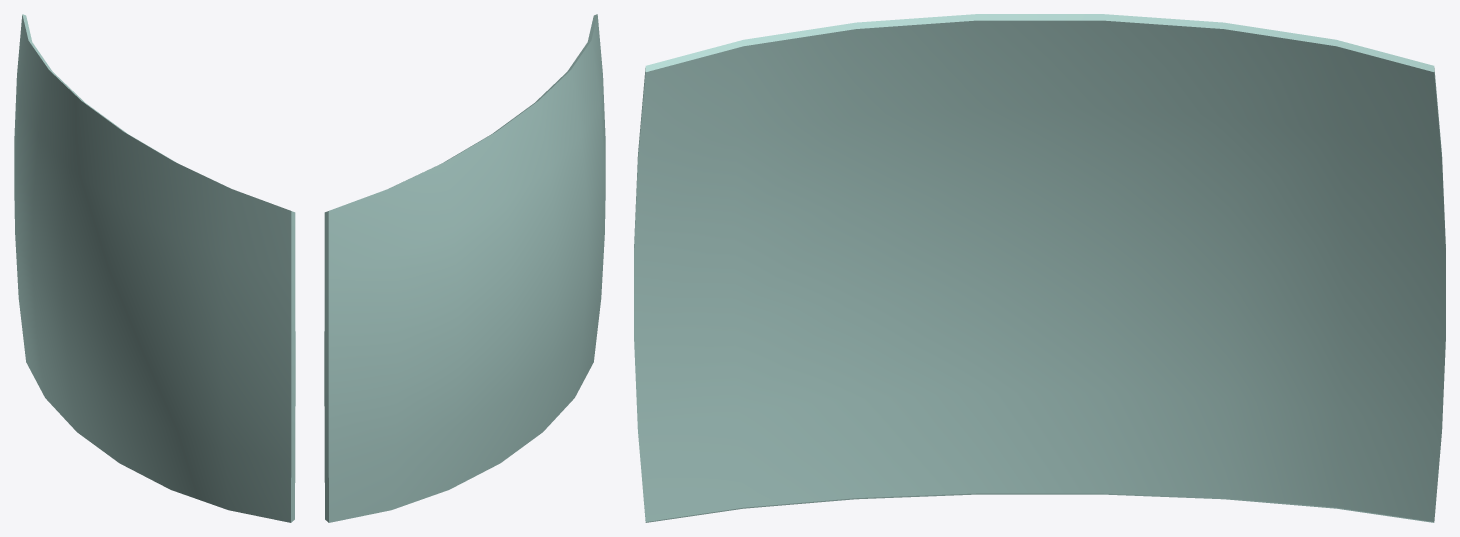
File: Label.FBX
The picture shows the model from 3 angles, left to right: view 1: azimuth 30°, elevation 25°; view 2: azimuth 150°, elevation 25°; view 3: azimuth 270°, elevation 25°; orthographic projection. The views are drawn at different scales.
Parts seen in each view (by area): view 1: Box073; view 2: Box073; view 3: Box073.
Boxes of the visible parts, x1=… form: Box073: x1=14, y1=14, x2=295, y2=522; Box073: x1=324, y1=14, x2=605, y2=522; Box073: x1=634, y1=14, x2=1445, y2=522.
Size of the model in its own units: 54.78 by 232 by 352.
